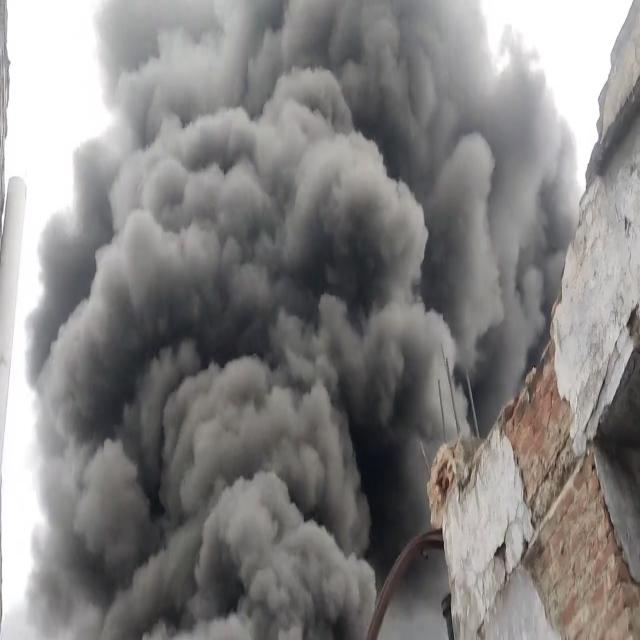Smoke: (28, 0, 578, 640)
